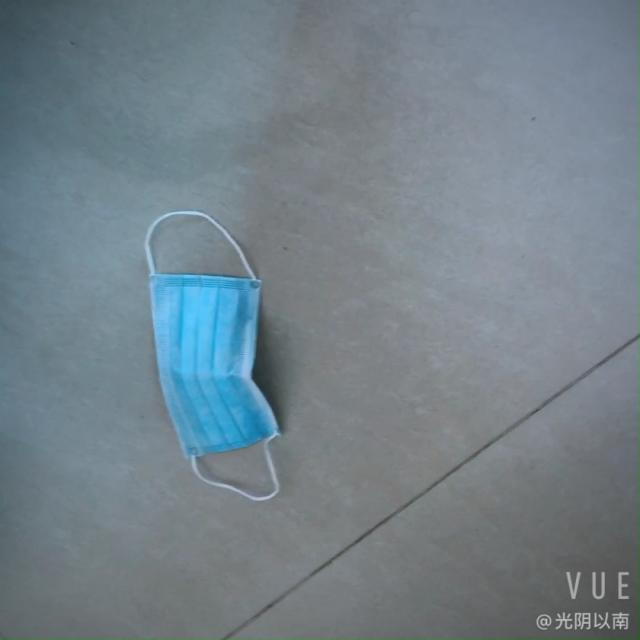face mask: (137, 204, 281, 516)
